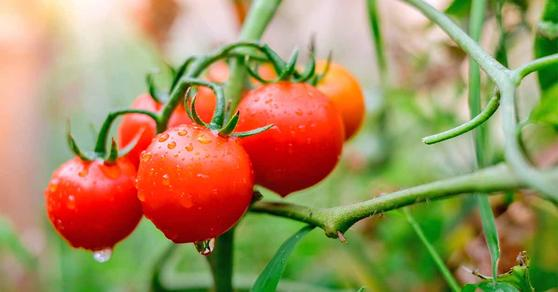tomato: (132, 121, 259, 246), (239, 73, 350, 193)
